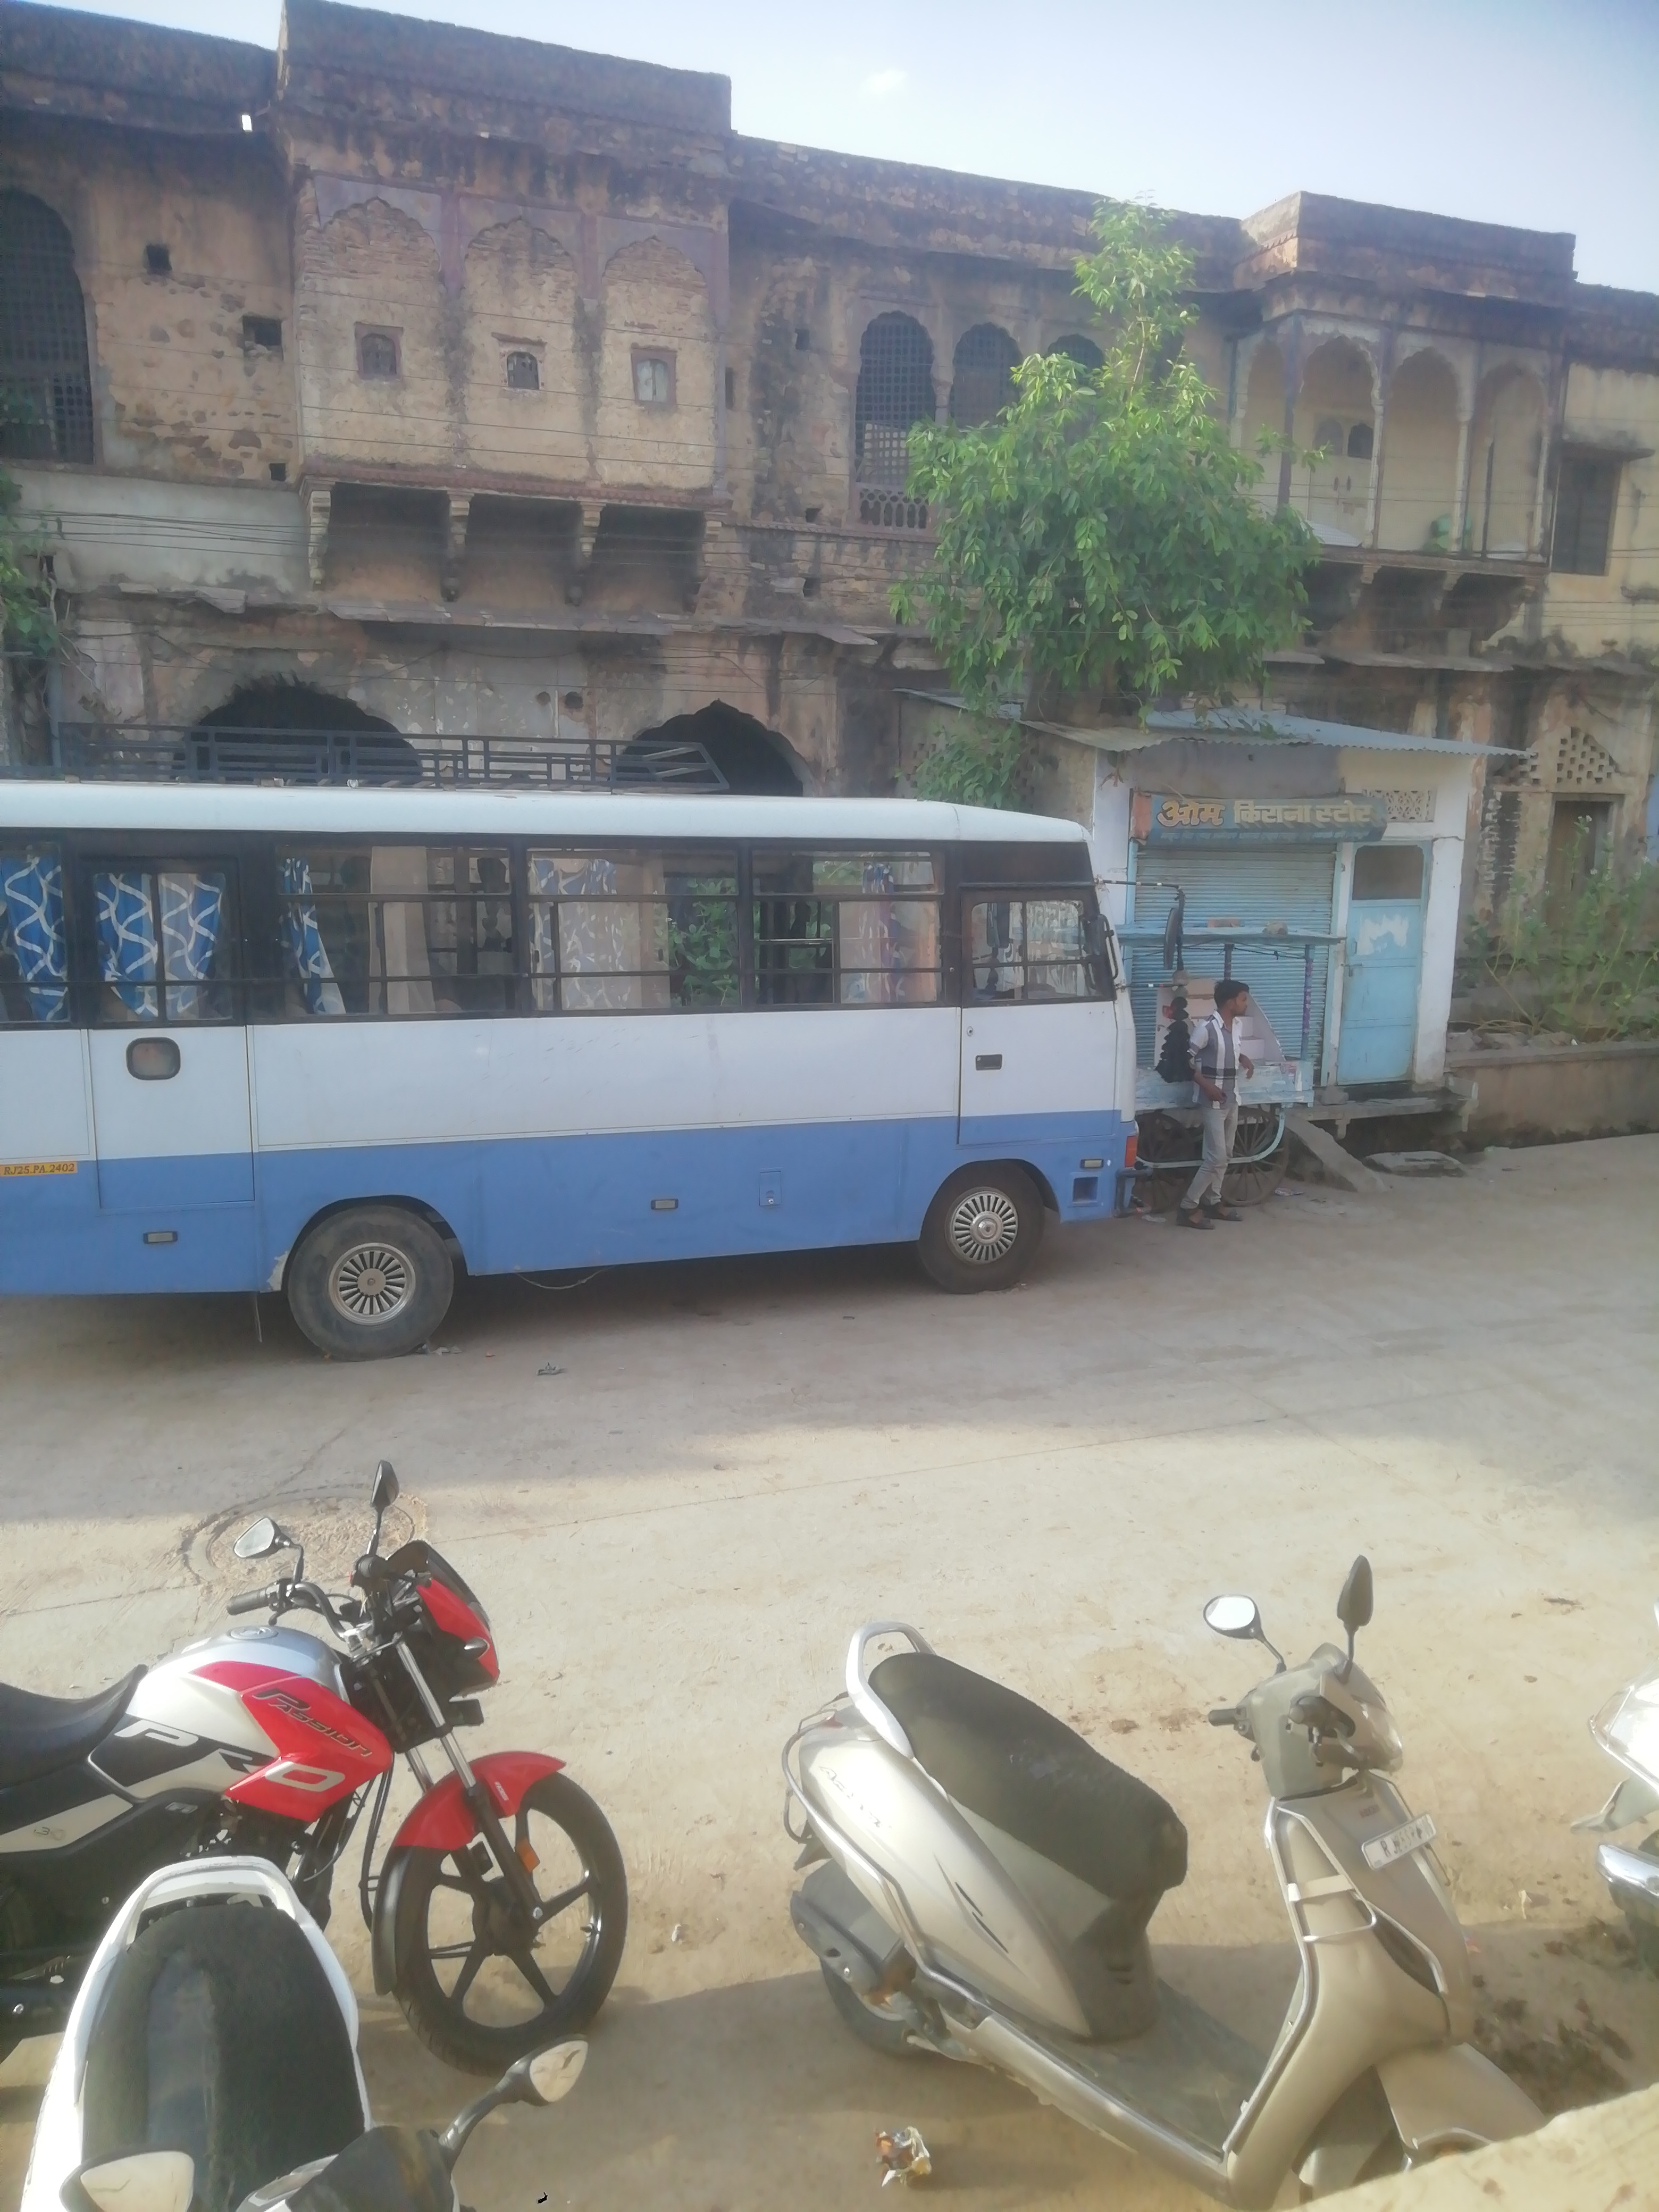bike: (768, 1550, 1559, 2170), (6, 1408, 642, 2079)
bus: (1, 760, 1148, 1350)
